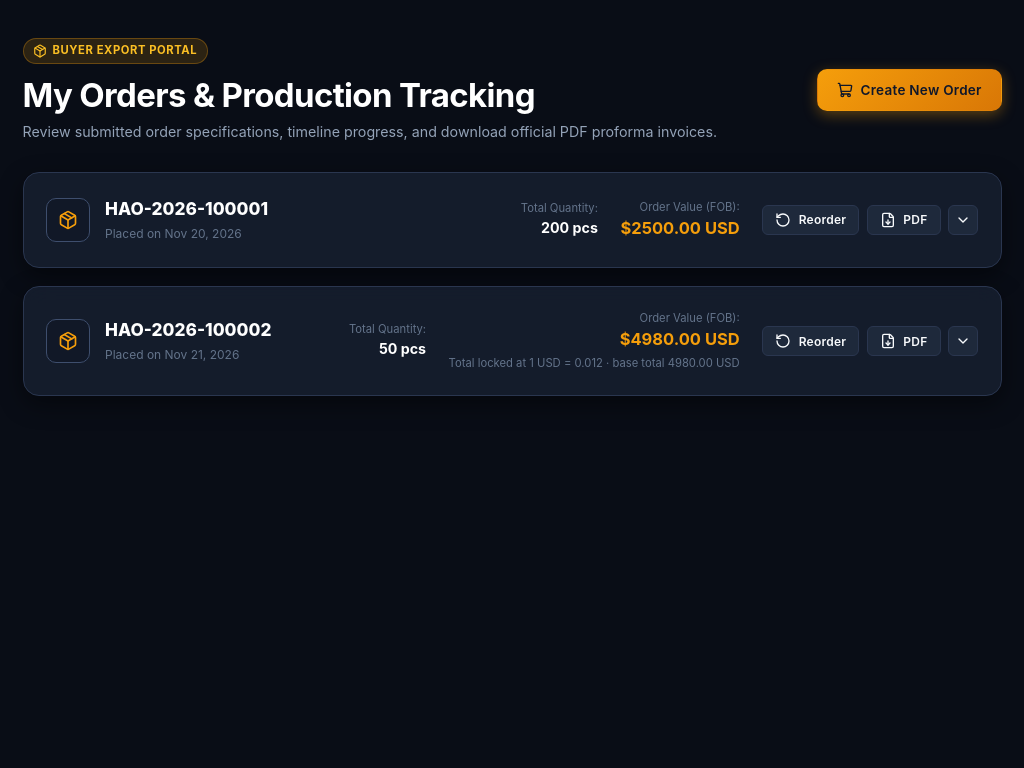
Scenario: My Orders reorder (v0.5 F3) › reorders a past order and lands back with the new draft highlighted
Expected: the text "HAO-2026-100001" is shown, [105,196,268,222]
Click the button "Reorder" in the row of "2500.00". click: [811, 220]
box: [762,205,859,235]
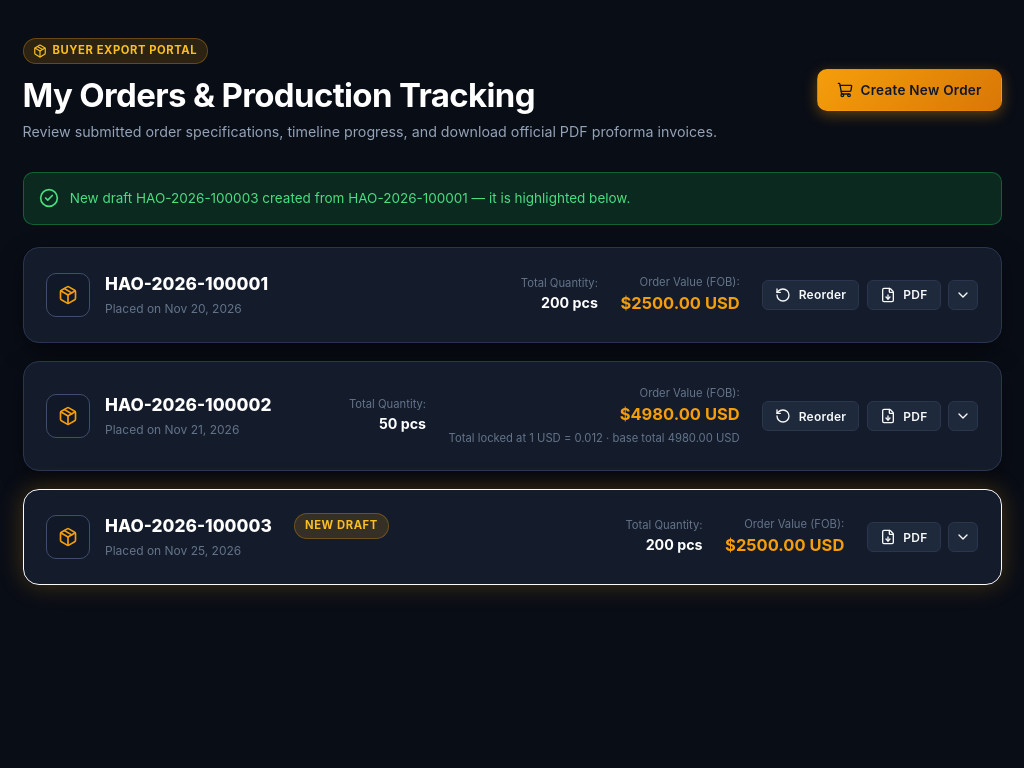
Now the text "New draft HAO-2026-100003 created from HAO-2026-100001" is shown, box [70,190,630,206]
Now the text "New draft" is shown, box [294,513,389,539]
